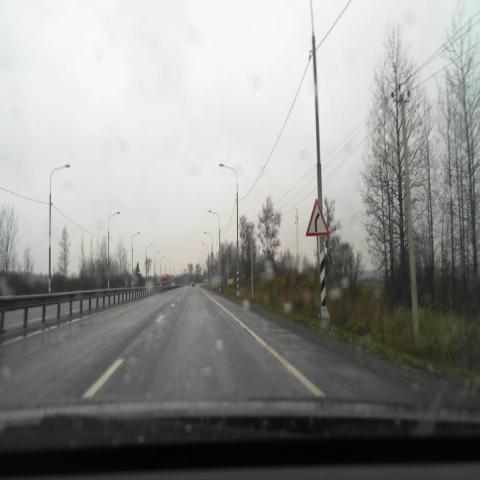1_11: (306, 199, 330, 235)
